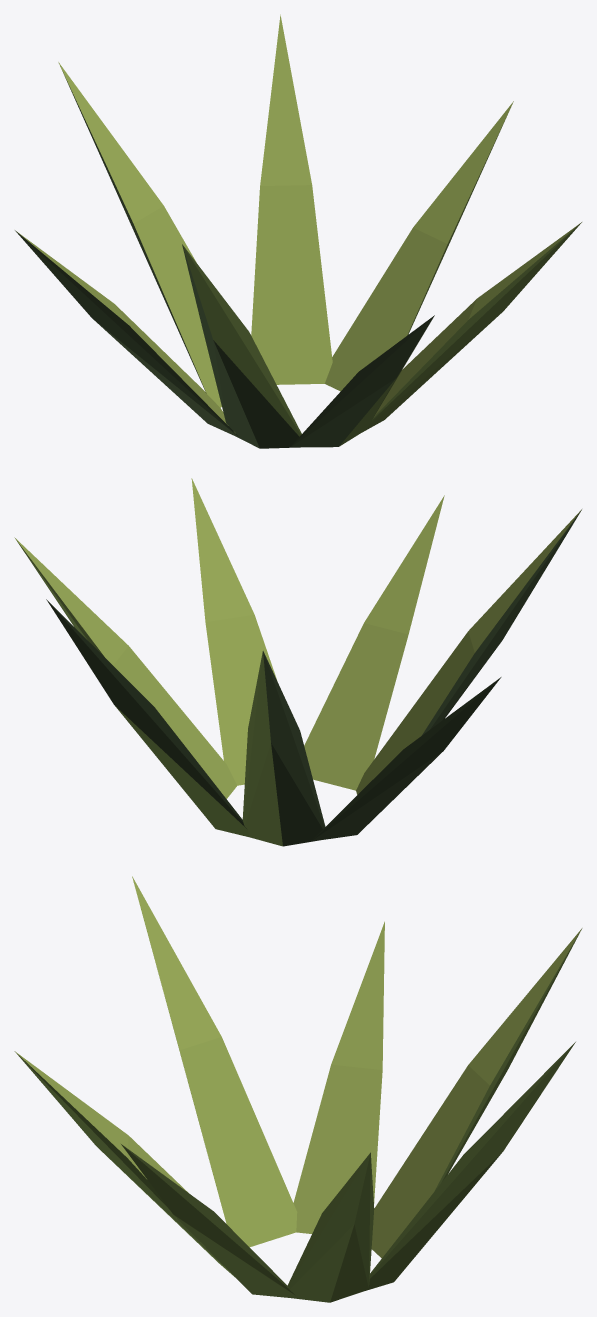
The model's file is TW_VEG_GRASS_LOW_B_LOD0.glb.
The picture shows the model from 3 angles, top to bottom: view 1: azimuth 30°, elevation 25°; view 2: azimuth 150°, elevation 25°; view 3: azimuth 270°, elevation 25°; orthographic projection.
Parts seen in each view (by area): view 1: TW_VEG_GRASS_LOW_B_LOD0; view 2: TW_VEG_GRASS_LOW_B_LOD0; view 3: TW_VEG_GRASS_LOW_B_LOD0.
Part boxes in pixels (x1,y1,x2,y2): TW_VEG_GRASS_LOW_B_LOD0: (15,14,581,448); TW_VEG_GRASS_LOW_B_LOD0: (14,478,581,846); TW_VEG_GRASS_LOW_B_LOD0: (14,876,582,1302).
Size of the model in its own units: 0.4581 by 0.2517 by 0.4491.
Materials: 1 (1 with a texture image).
